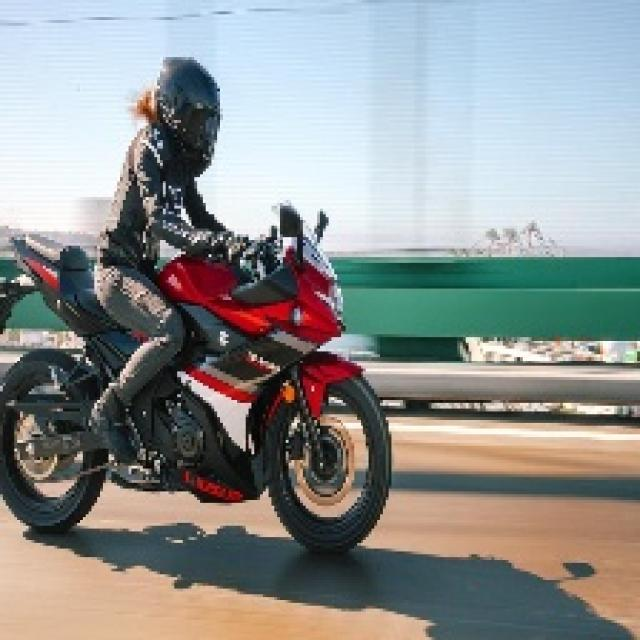bike: (6, 197, 376, 537)
